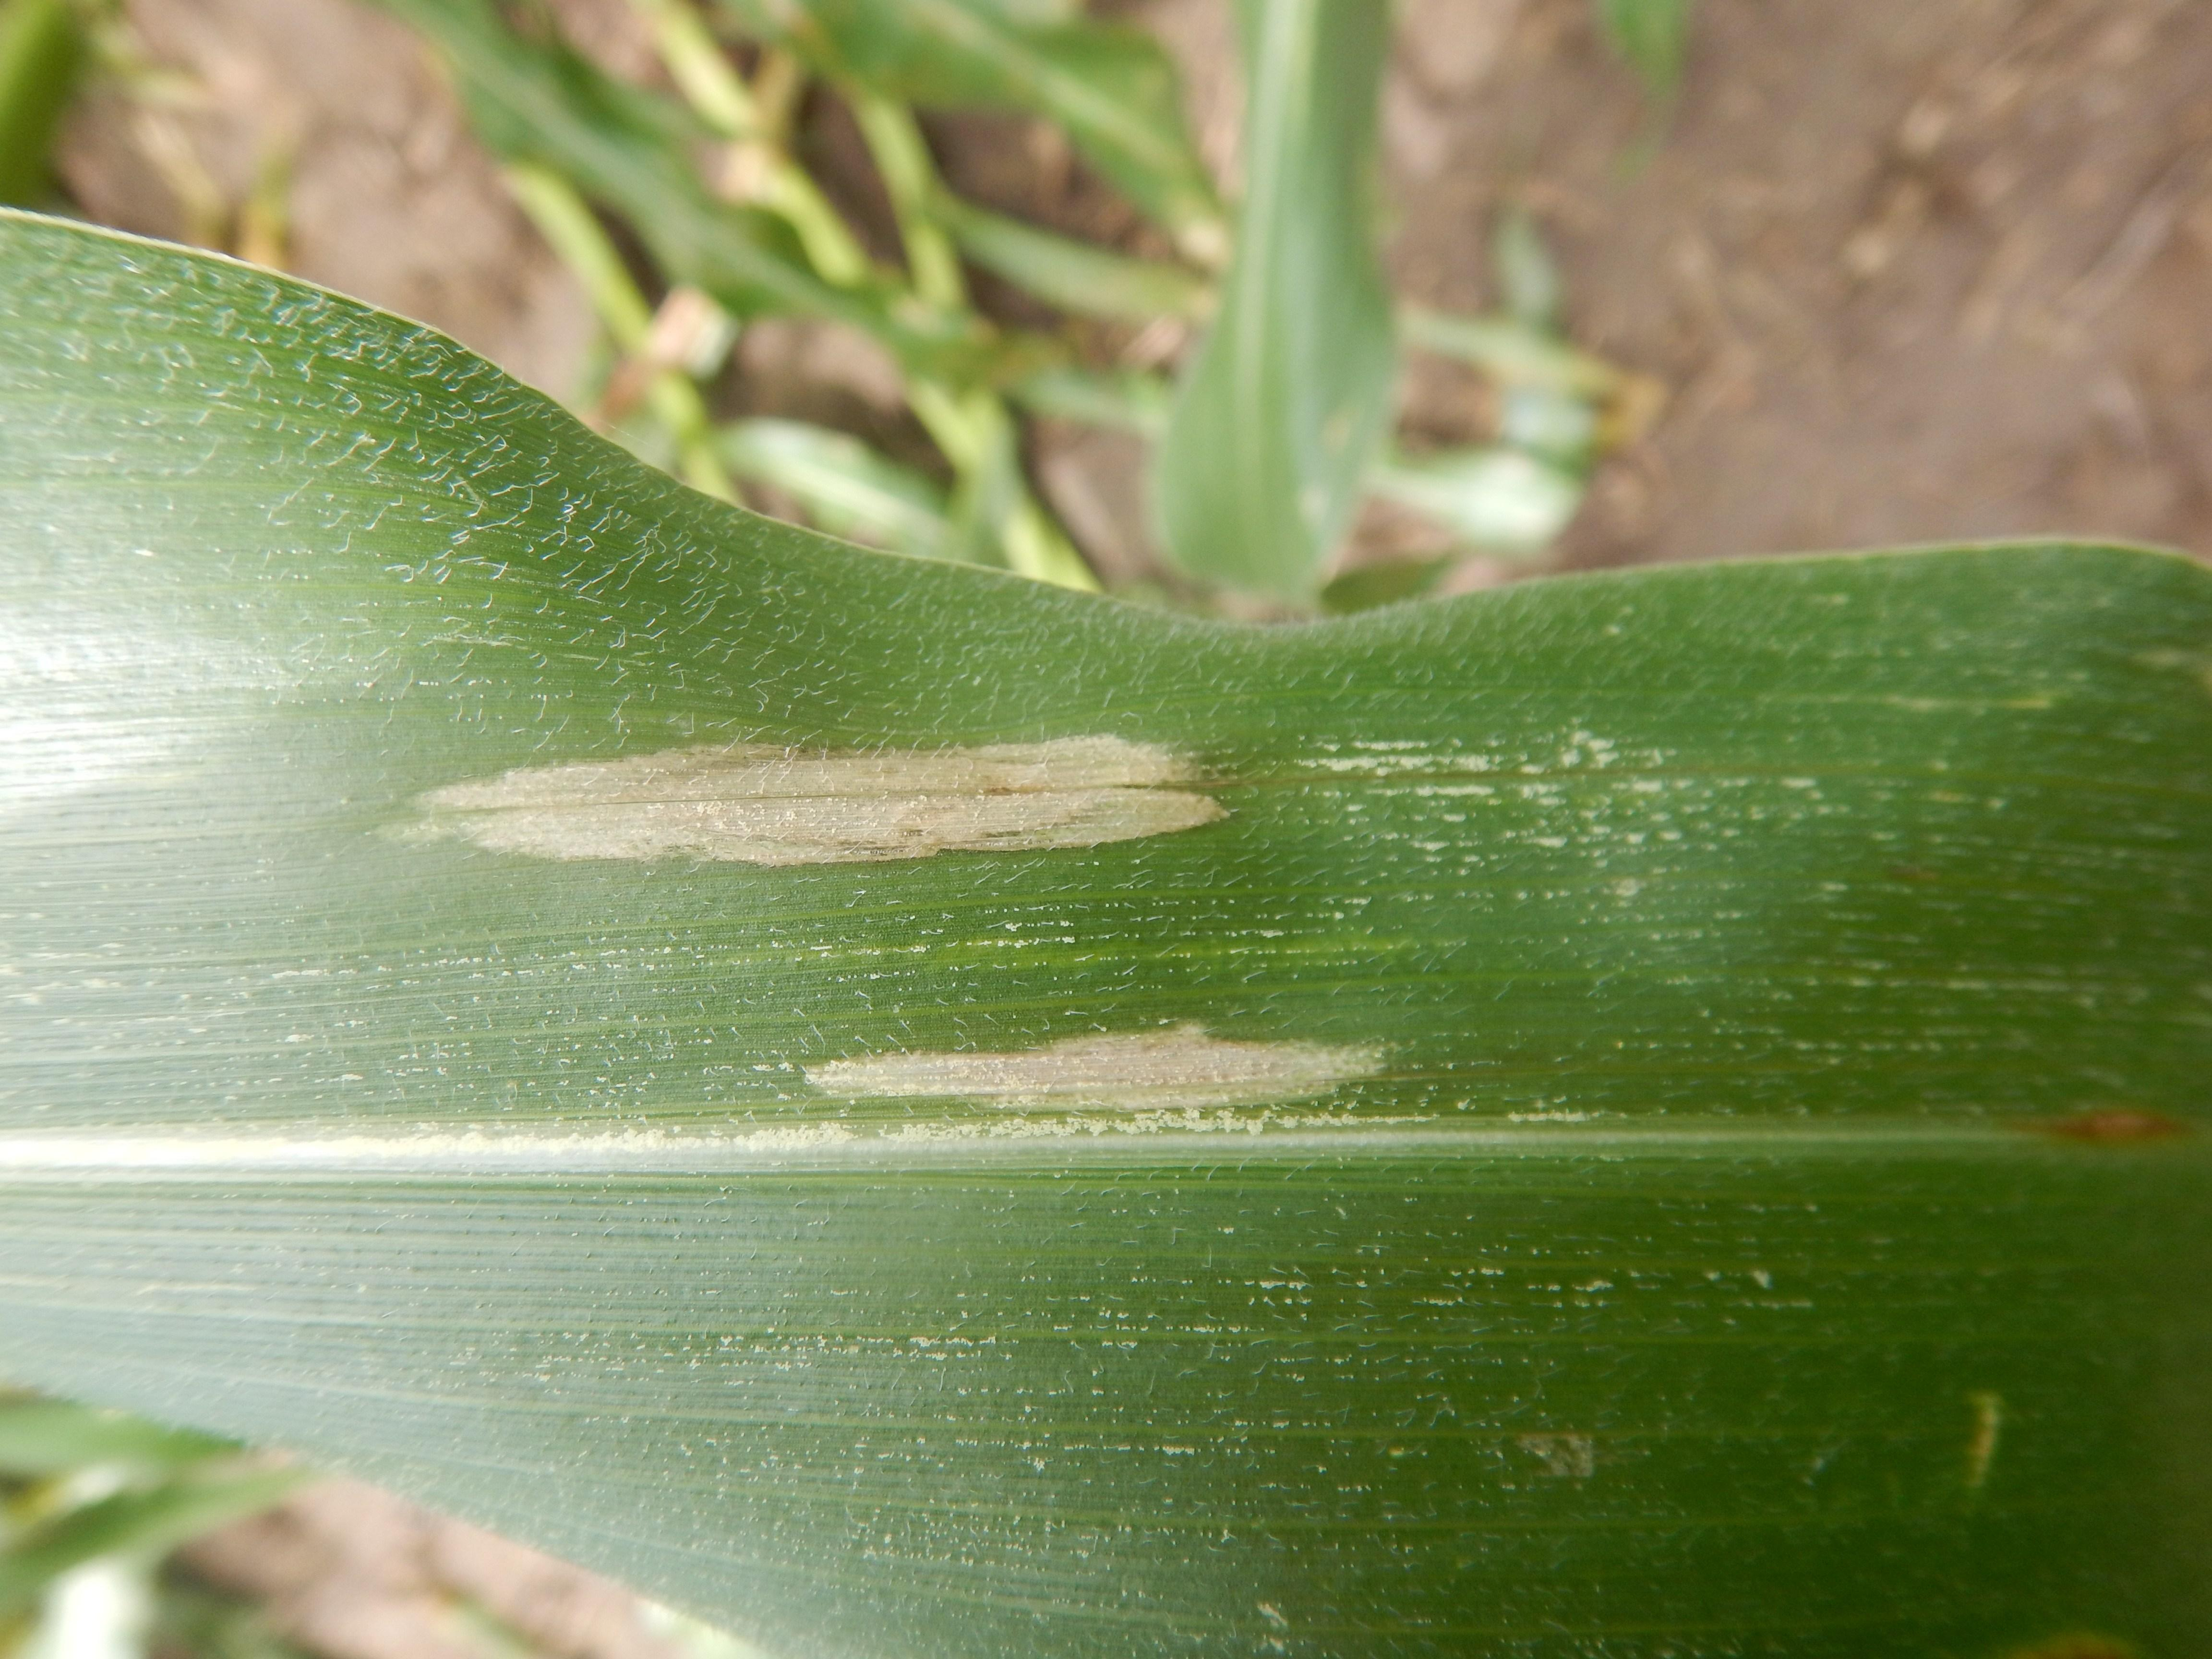Corn leaf blight: (2, 288, 2182, 1659)
